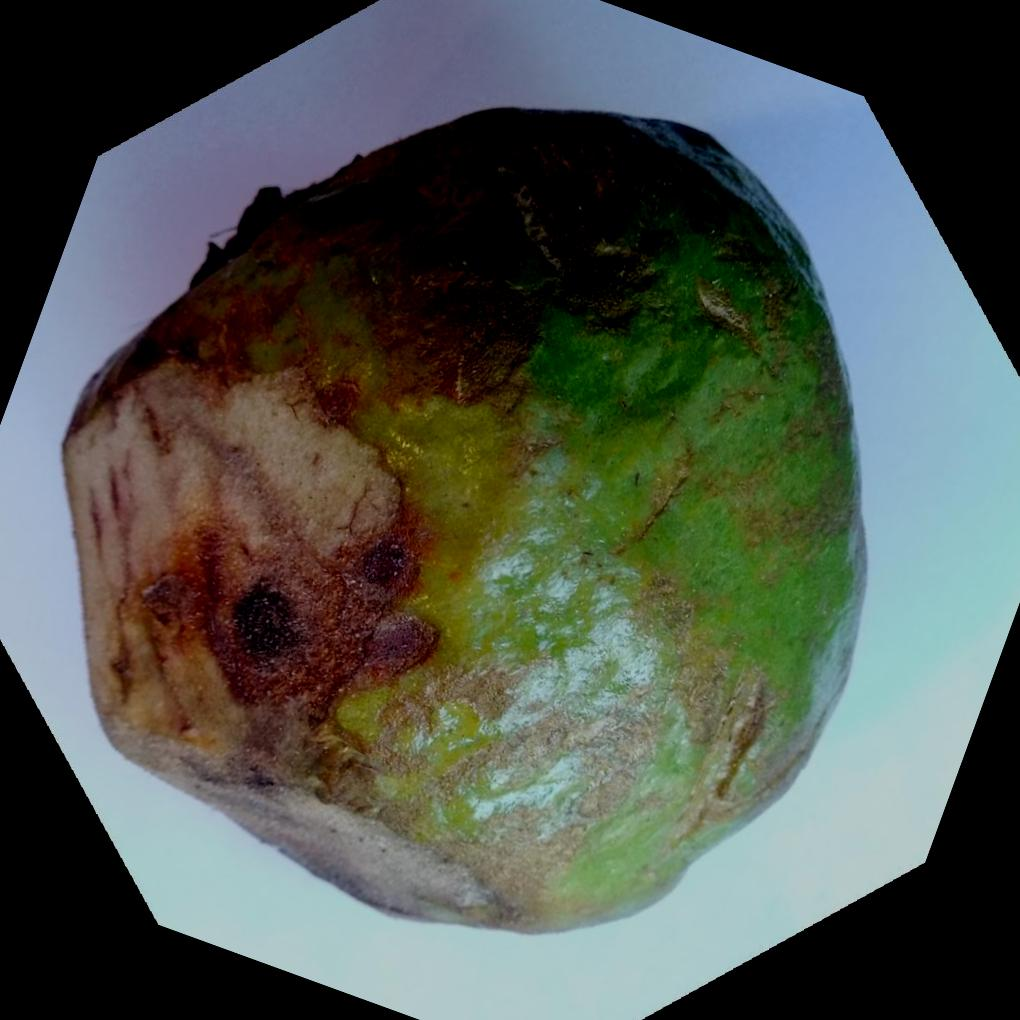FreshOrange: (57, 103, 865, 933)
